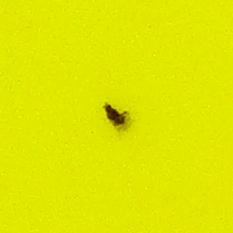Brachycera: (100, 100, 133, 133)
